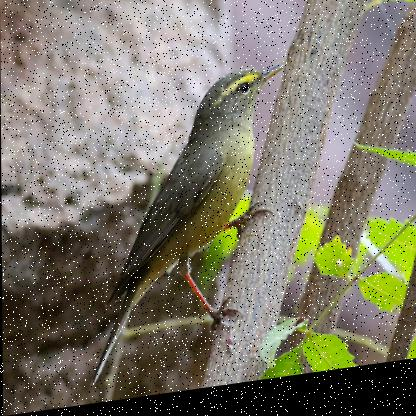Burung: (85, 67, 289, 386)
